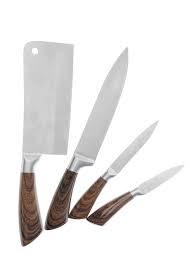Knife: (44, 45, 128, 230), (18, 40, 73, 246), (68, 119, 158, 219), (86, 163, 184, 225)
